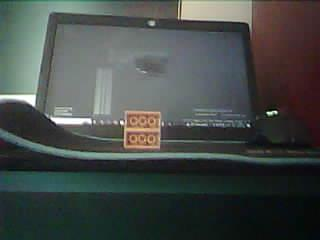lego: (124, 110, 161, 149)
